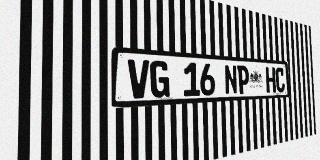1: (183, 62, 200, 96)
6: (200, 63, 215, 96)
C: (275, 67, 285, 92)
G: (150, 60, 170, 98)
H: (265, 67, 276, 93)
N: (224, 64, 237, 95)
P: (237, 65, 249, 94)
V: (128, 59, 150, 99)
